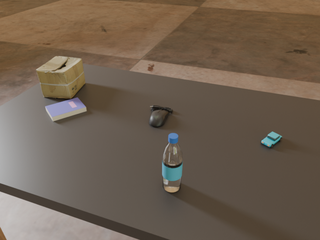book: (45, 98, 86, 121)
bottle: (162, 133, 182, 192)
box: (36, 56, 85, 99)
mouse: (149, 106, 173, 127)
toy_car: (261, 132, 282, 148)
